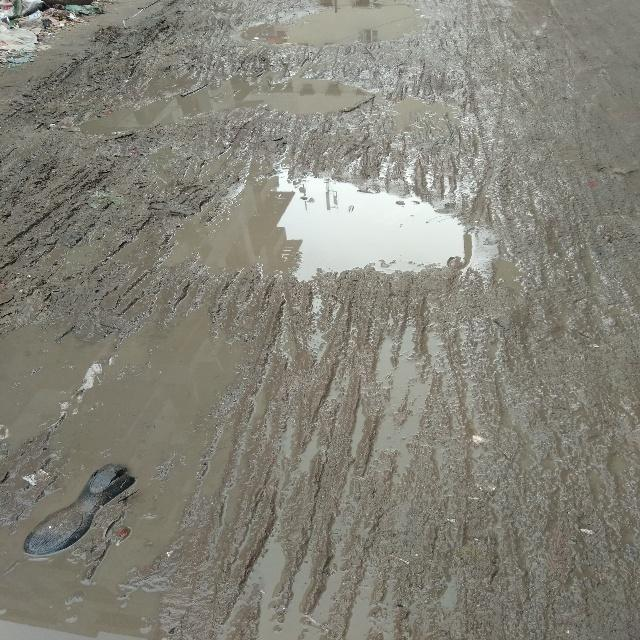Pothole: (221, 164, 406, 295), (172, 67, 344, 119)
Surface Erosion: (0, 4, 640, 640)
